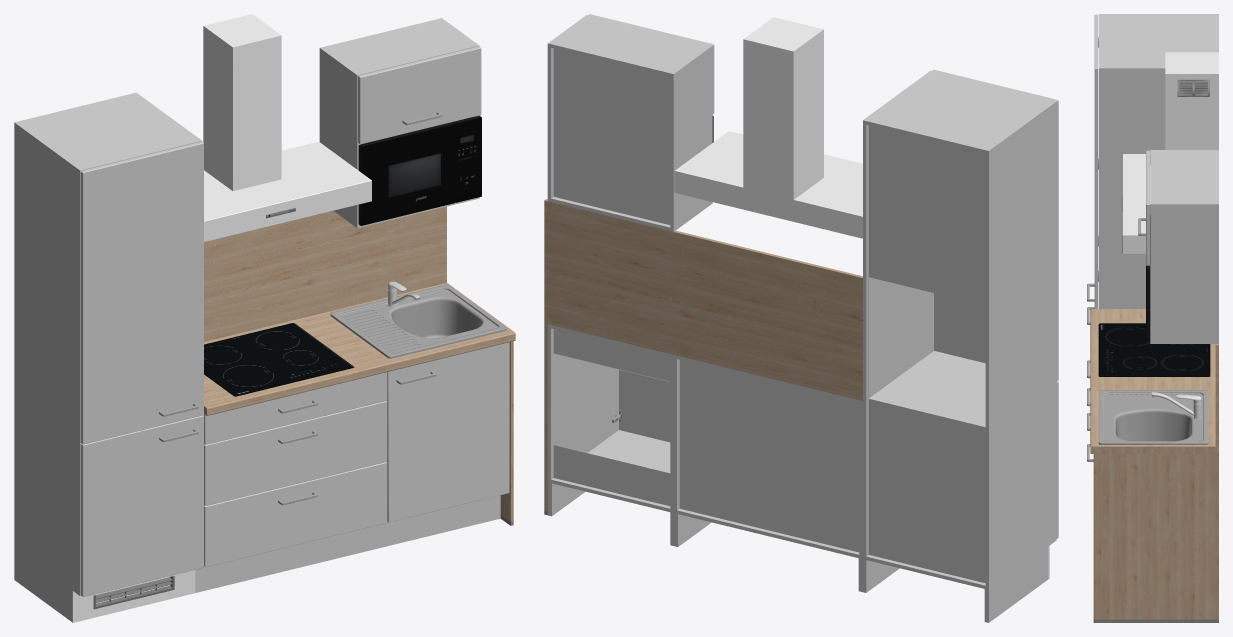
The picture shows the model from 3 angles, left to right: view 1: azimuth 30°, elevation 25°; view 2: azimuth 150°, elevation 25°; view 3: azimuth 270°, elevation 25°; orthographic projection. The views are drawn at different scales.
Visible parts, largest first — view 1: body.G123_02_1, front_Tür_60x1277, Haube_Edelstahl_90, niche_NV52, front_Tür_60x717001, front_Tür_600x720002, front.Schublade_60x285.005_0, front.Schublade_60x285.006_0, Mikrowelle001, body_WM60_02, front_Tür_60x318, front_Sockel_Front (×2) (+8 smaller); view 2: body.G123_02_1, niche_NV52, body.W30_02.019_1, body_WM60_02, Haube_Edelstahl_90, body.G123_02_0, body.SPUD60_0, front_Tür_60x1277, front_Tür_600x720002, body_Sockel_Side_left (×2), worktop_Arbeitsplatte, body.W30_02.019_0 (+2 smaller); view 3: upstand, body.G123_02_1, body_WM60_02, Haube_Edelstahl_90, Spüle_einzeln_Edelstahl, worktop_Arbeitsplatte, Kochfeld_Induktion, front_Tür_60x1277, Circle.002_0, Abschlusswange_Unterschranke, front_Tür_60x318, Mikrowelle001 (+1 smaller).
Part boxes in pixels (box(x1,y1,x2,y2)): body.G123_02_1: box(14, 92, 202, 595); front_Tür_60x1277: box(80, 141, 203, 444); Haube_Edelstahl_90: box(203, 14, 371, 242); niche_NV52: box(204, 206, 446, 341); front_Tür_60x717001: box(80, 415, 203, 596); front_Tür_600x720002: box(387, 342, 509, 522); front.Schublade_60x285.005_0: box(204, 401, 387, 505); front.Schublade_60x285.006_0: box(204, 462, 387, 567); Mikrowelle001: box(358, 115, 481, 225); body_WM60_02: box(319, 18, 479, 228); front_Tür_60x318: box(358, 46, 481, 144); front_Sockel_Front (×2): box(195, 495, 500, 592); body.G123_02_1: box(863, 70, 1056, 589); niche_NV52: box(544, 199, 862, 392); body.W30_02.019_1: box(673, 355, 862, 559); body_WM60_02: box(547, 15, 712, 231); Haube_Edelstahl_90: box(674, 17, 862, 238); body.G123_02_0: box(868, 125, 985, 305); body.SPUD60_0: box(547, 324, 673, 512); front_Tür_60x1277: box(932, 69, 1058, 381); front_Tür_600x720002: box(619, 369, 670, 442); body_Sockel_Side_left (×2): box(547, 482, 1048, 622); worktop_Arbeitsplatte: box(544, 315, 862, 400); body.W30_02.019_0: box(677, 355, 859, 403); upstand: box(1093, 454, 1218, 619); body.G123_02_1: box(1099, 14, 1218, 308); body_WM60_02: box(1150, 150, 1218, 343); Haube_Edelstahl_90: box(1121, 52, 1218, 254); Spüle_einzeln_Edelstahl: box(1099, 390, 1208, 444); worktop_Arbeitsplatte: box(1090, 309, 1218, 453); Kochfeld_Induktion: box(1098, 323, 1210, 376); front_Tür_60x1277: box(1094, 14, 1098, 308); Circle.002_0: box(1151, 392, 1202, 419); Abschlusswange_Unterschranke: box(1093, 619, 1218, 622); front_Tür_60x318: box(1146, 150, 1149, 265); Mikrowelle001: box(1146, 215, 1150, 340).
Size of the model in its own units: 2.12 by 2.38 by 0.6155.
29 materials, 8 textured.
